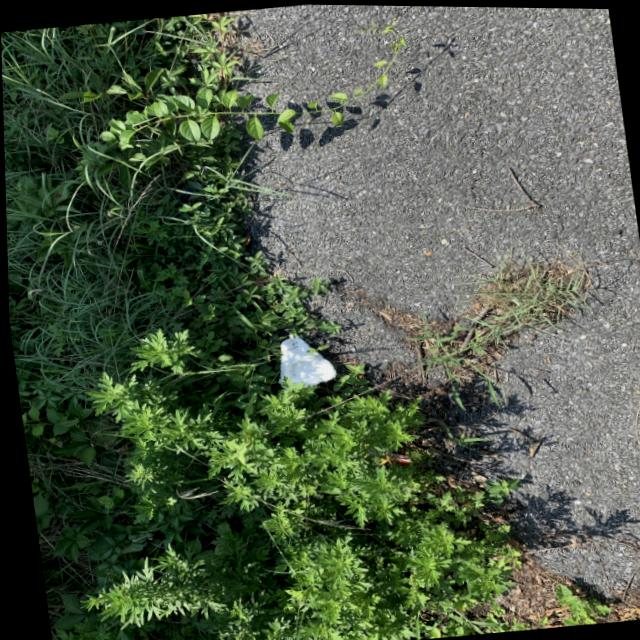Trash -everything else-: (266, 325, 339, 395)
